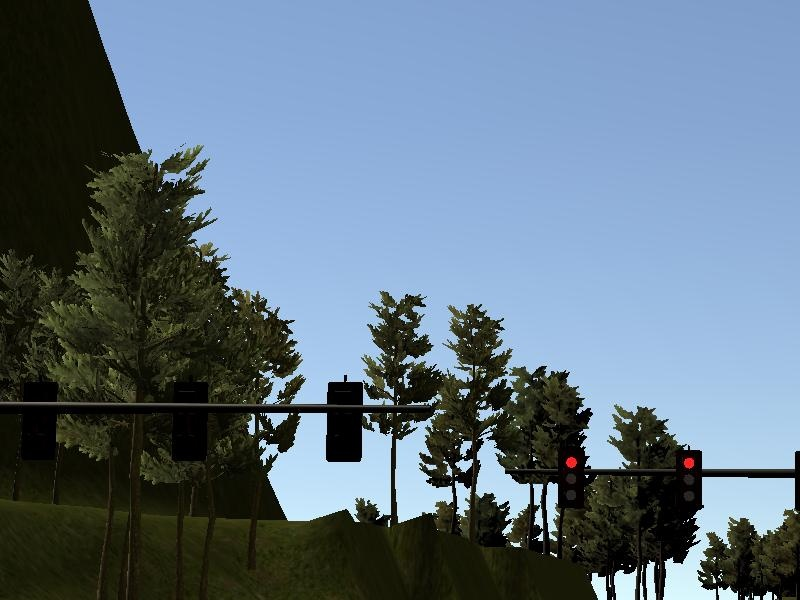traffic_light_red: (516, 452, 800, 510)
